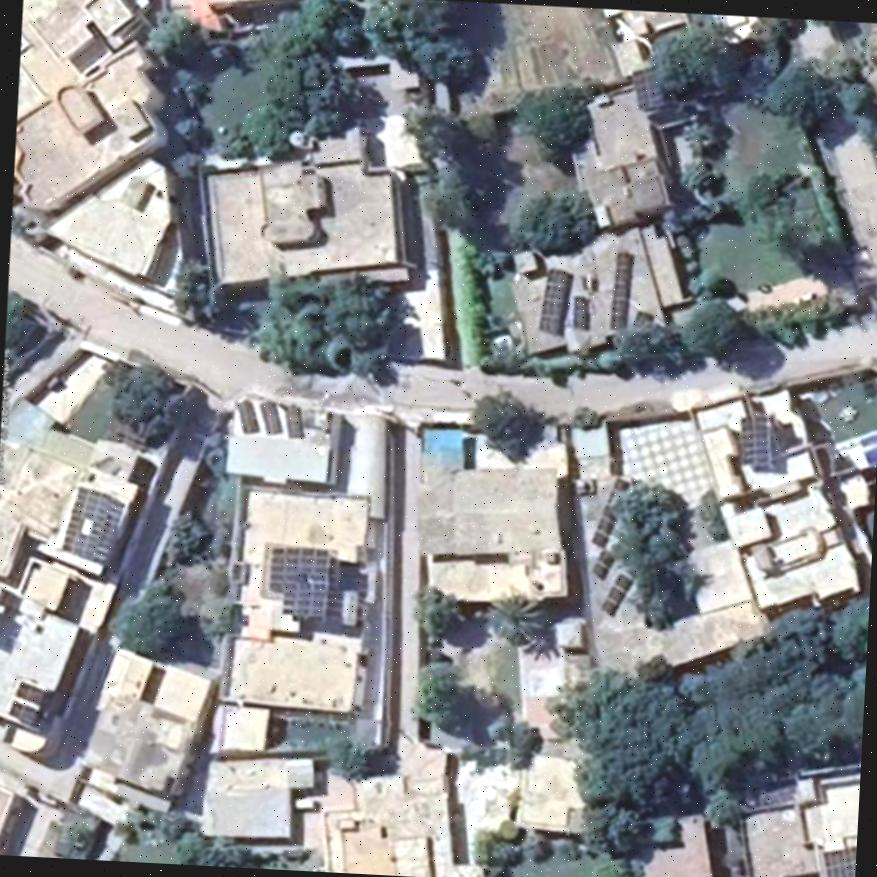Solarpanel: (270, 544, 332, 620), (62, 484, 112, 563), (590, 479, 630, 543), (538, 268, 571, 334), (609, 248, 634, 335), (739, 413, 773, 470), (629, 64, 664, 113), (823, 842, 854, 877), (605, 573, 631, 614), (592, 549, 612, 576)
